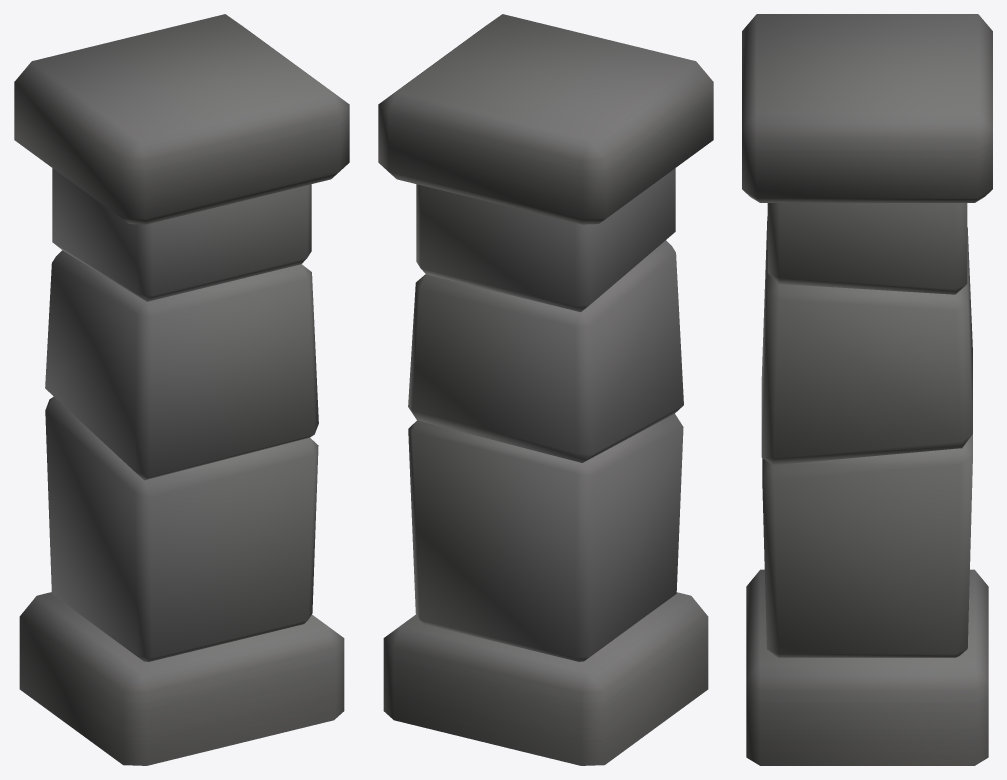
Rendered from Pilar_1_1.glb.
3 renders of one model, left to right at view 1: azimuth 30°, elevation 25°; view 2: azimuth 150°, elevation 25°; view 3: azimuth 270°, elevation 25°, orthographic. The views are drawn at different scales.
Parts seen in each view (by area): view 1: Pilar_1_1; view 2: Pilar_1_1; view 3: Pilar_1_1.
Boxes of the visible parts, left/top/right/bottom form: Pilar_1_1: left=14, top=14, right=349, bottom=765; Pilar_1_1: left=378, top=14, right=713, bottom=765; Pilar_1_1: left=742, top=14, right=992, bottom=765.
Size of the model in its own units: 0.4802 by 1.25 by 0.4399.
Materials: 1 (1 with a texture image).
